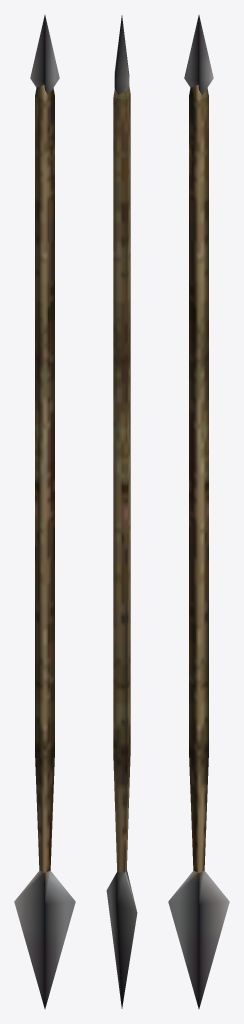
Rendered from spear_hoplite.dae.
The picture shows the model from 3 angles, left to right: view 1: azimuth 90°, elevation 25°; view 2: azimuth 210°, elevation 25°; view 3: azimuth 270°, elevation 25°; orthographic projection.
Parts seen in each view (by area): view 1: spear10-Pivot; view 2: spear10-Pivot; view 3: spear10-Pivot.
Part boxes in pixels (bbox=[...]): spear10-Pivot: bbox=[14, 15, 75, 1008]; spear10-Pivot: bbox=[106, 15, 137, 1008]; spear10-Pivot: bbox=[168, 15, 229, 1008].
Bounding box in the file's own units: 0.0988 × 0.3029 × 5.4.
